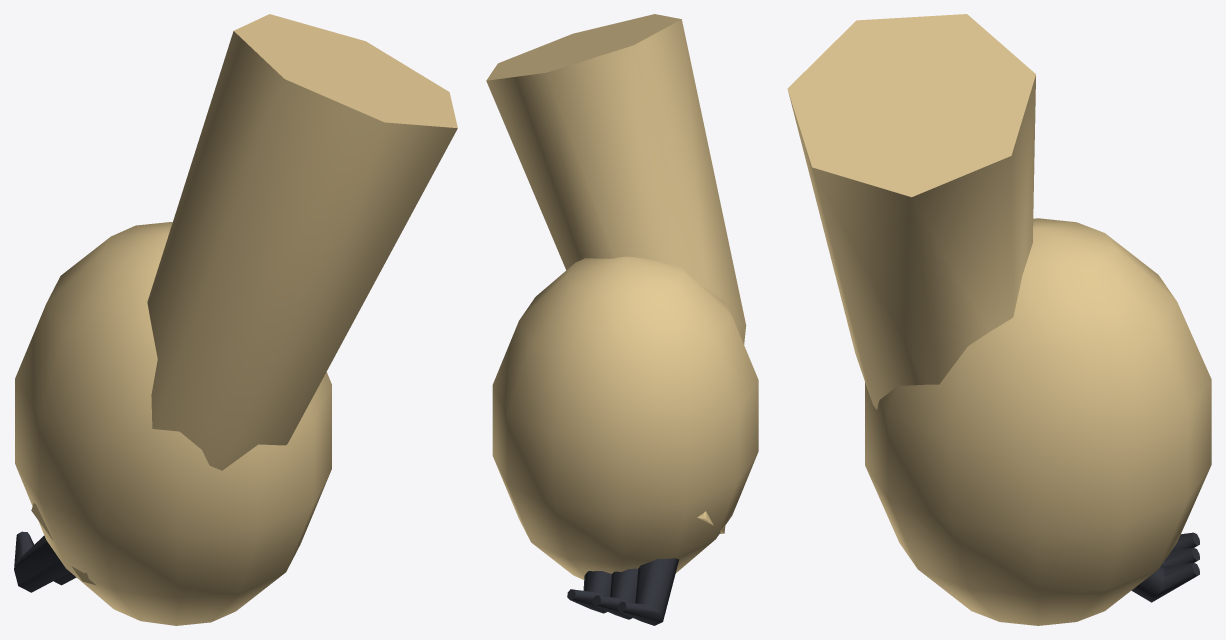
Rendered from gorehulk_a_arm_-1.obj.
The picture shows the model from 3 angles, left to right: view 1: azimuth 30°, elevation 25°; view 2: azimuth 150°, elevation 25°; view 3: azimuth 270°, elevation 25°; orthographic projection. The views are drawn at different scales.
Visible parts, largest first — view 1: source_component_000, source_component_004, source_component_003; view 2: source_component_004, source_component_000, source_component_003, source_component_002, source_component_001; view 3: source_component_004, source_component_000, source_component_001.
Part boxes in pixels (x1,y1,x2,y2): source_component_000: (31, 14, 457, 585); source_component_004: (15, 222, 331, 625); source_component_003: (14, 531, 69, 592); source_component_004: (492, 256, 758, 579); source_component_000: (486, 14, 746, 533); source_component_003: (618, 558, 679, 625); source_component_002: (592, 568, 638, 619); source_component_001: (567, 571, 611, 613); source_component_004: (865, 218, 1211, 625); source_component_000: (787, 14, 1035, 409); source_component_001: (1131, 562, 1199, 602).
Bounding box in the file's own units: 0.5193 × 0.8576 × 0.5367.
